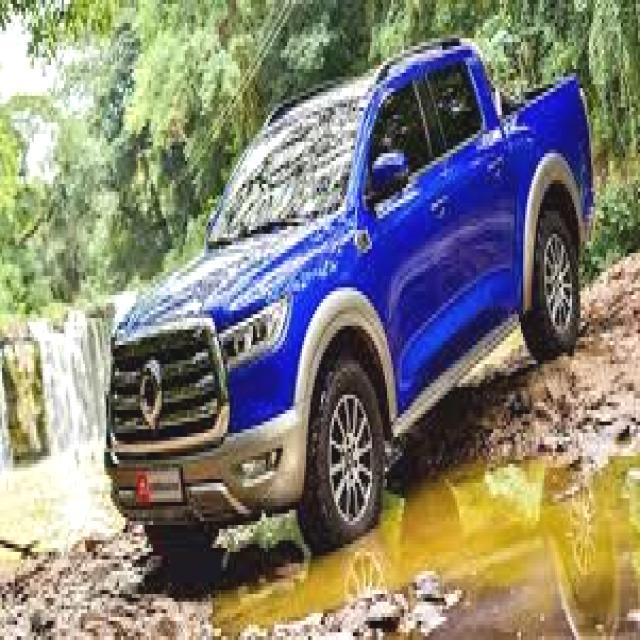CMT: (98, 36, 626, 530)
